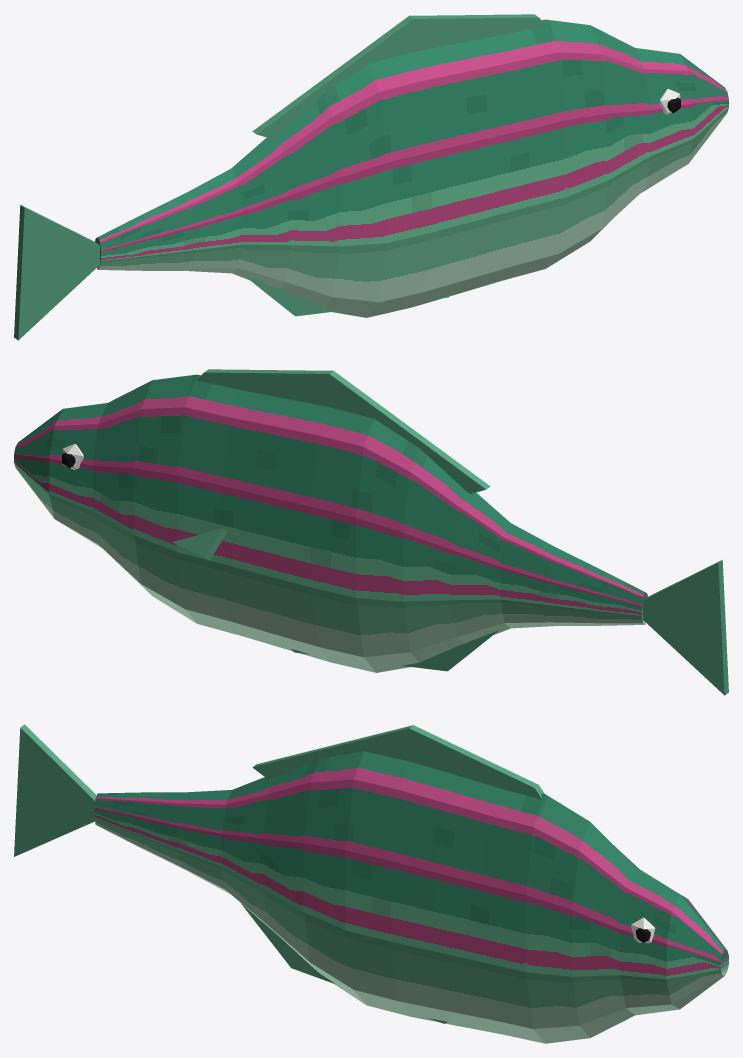
Rendered from moon_wrasse.glb.
The picture shows the model from 3 angles, top to bottom: view 1: azimuth 30°, elevation 25°; view 2: azimuth 150°, elevation 25°; view 3: azimuth 330°, elevation 25°; orthographic projection.
Visible parts, largest first — view 1: fish_moon_wrasse; view 2: fish_moon_wrasse; view 3: fish_moon_wrasse.
Boxes of the visible parts, left/top/right/bottom form: fish_moon_wrasse: left=14, top=14, right=728, bottom=340; fish_moon_wrasse: left=14, top=369, right=728, bottom=695; fish_moon_wrasse: left=14, top=724, right=728, bottom=1043.
Bounding box in the file's own units: 1.13 × 0.4423 × 0.1417.
Materials: 4 (1 with a texture image).
